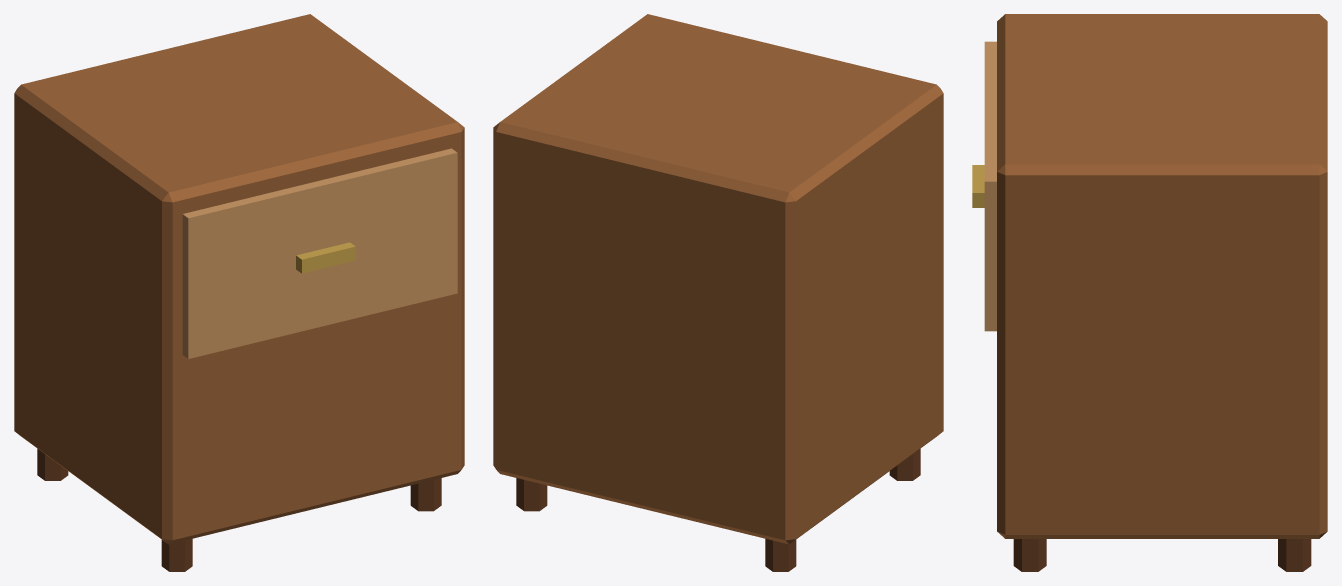
The model's file is nightstand.fbx.
3 views of the same model, side by side, from view 1: azimuth 30°, elevation 25°; view 2: azimuth 150°, elevation 25°; view 3: azimuth 270°, elevation 25° (orthographic). The views are drawn at different scales.
Visible parts, largest first — view 1: nightstand; view 2: nightstand; view 3: nightstand.
Boxes of the visible parts, bbox=[...] form: nightstand: bbox=[14, 14, 464, 571]; nightstand: bbox=[493, 14, 943, 571]; nightstand: bbox=[972, 14, 1327, 571].
Bounding box in the file's own units: 1.8 × 2.2 × 1.72.
